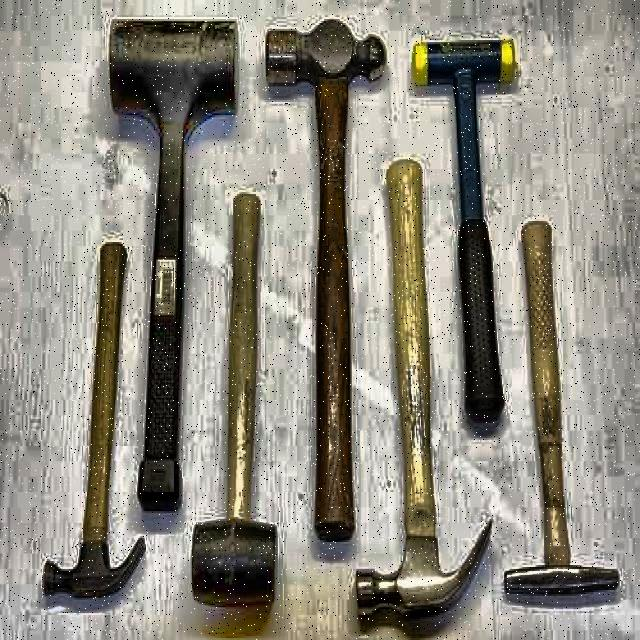hammer: (356, 157, 493, 628), (265, 16, 383, 544), (507, 219, 619, 599), (40, 240, 147, 602)
